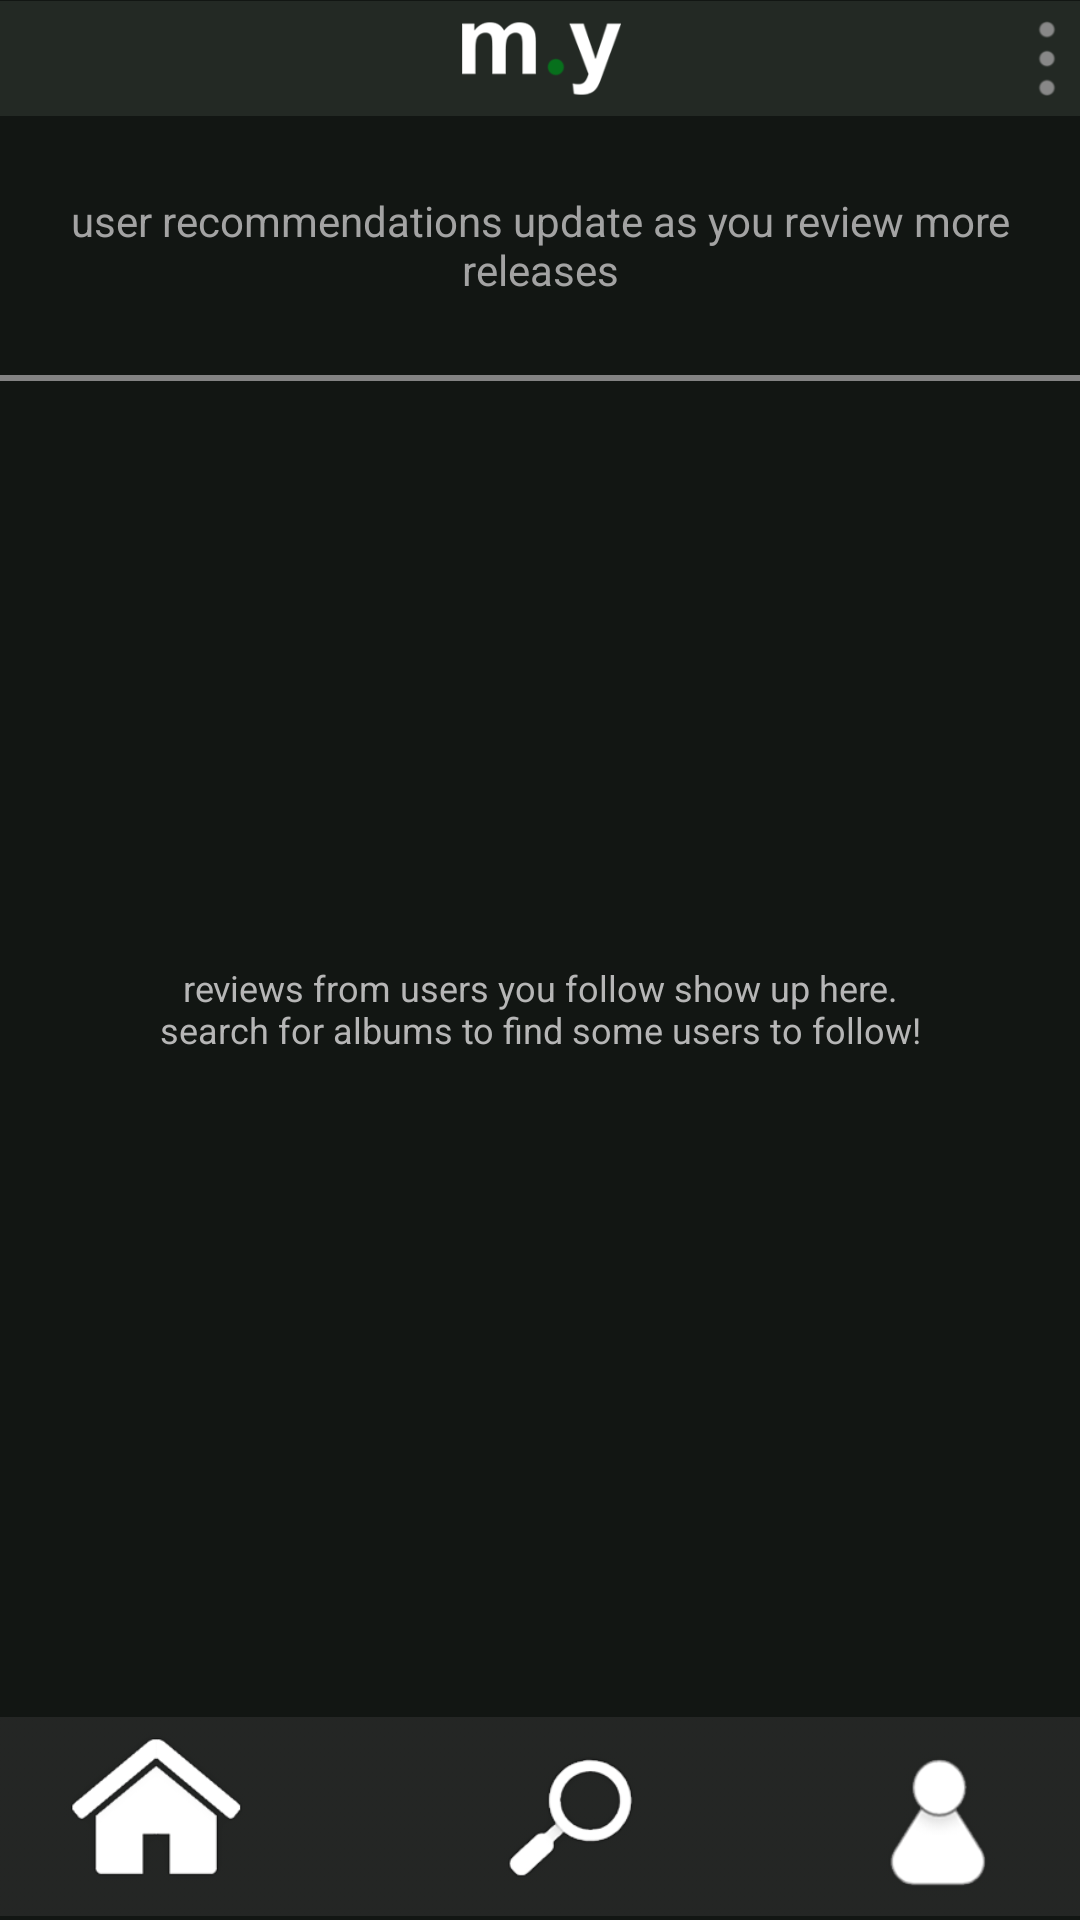

Icon bounding boxes for this 1080 × 1920 phone screenshot, format box=[x1, y1, x2, y2]:
options: box=[1039, 22, 1055, 96]
